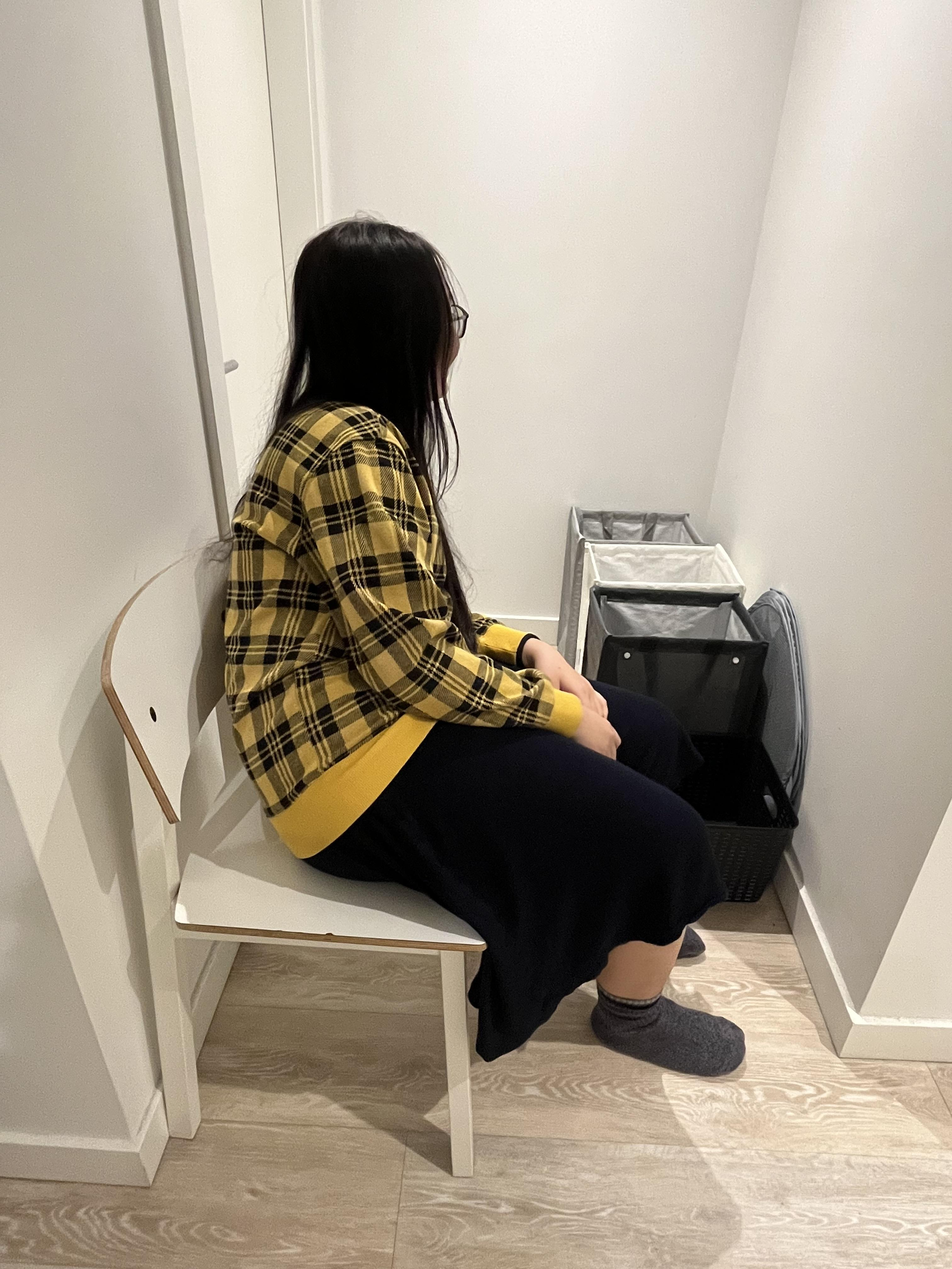BadPosture: (219, 218, 748, 1079)
